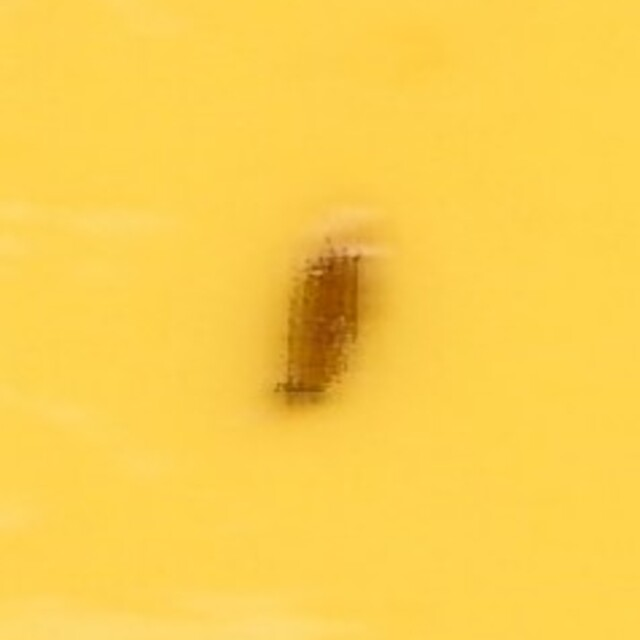Trichoptera: (269, 221, 371, 419)
